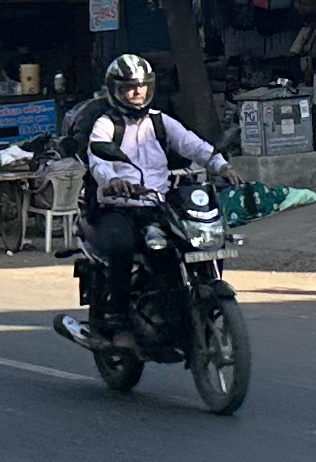BikeWithRider: (44, 46, 261, 420)
Helmet: (98, 49, 161, 117)
